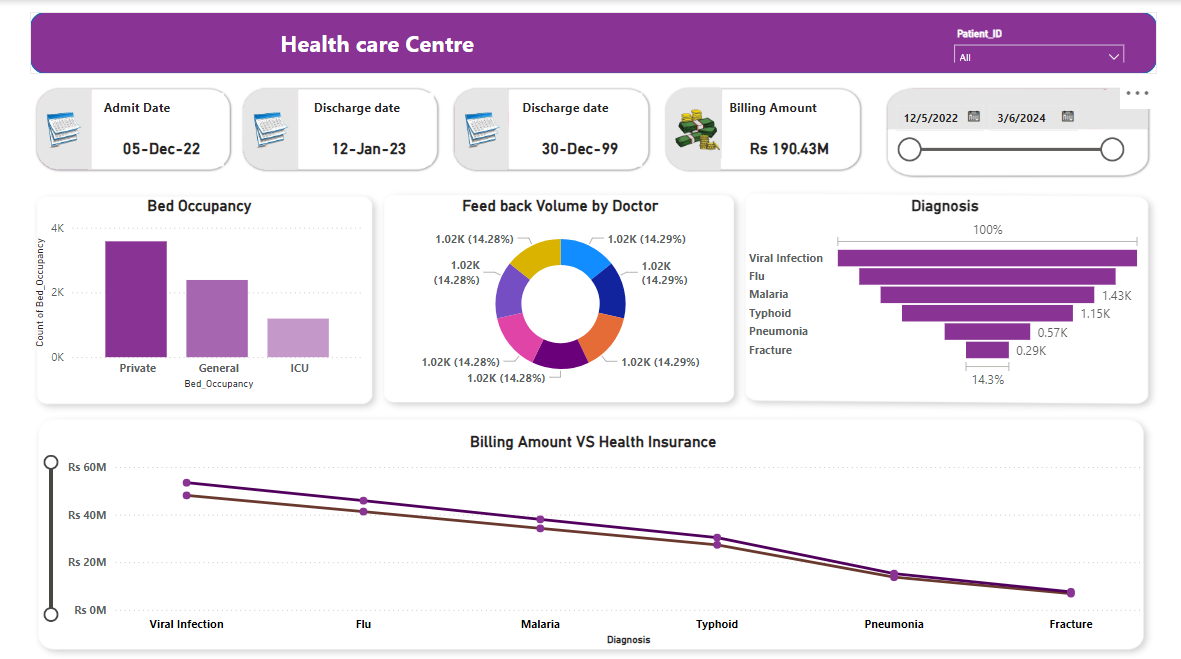

This screenshot's page, from the dashboard's own definition file:
{"tool":"powerbi","page":{"name":"Page 1","canvas":[1280,720],"ordinal":0},"visuals":[{"type":"image","box":[0,0,1280,720],"z":0},{"type":"shape","box":[31.7,13.3,1216.7,66.7],"z":500},{"type":"textbox","box":[215.4,24.3,448.5,43.7],"z":2000},{"type":"slicer","fields":{"Values":["Sheet1.Patient_ID"]},"box":[1020,25,203.3,43.3],"z":3000},{"type":"card","fields":{"Values":["Min(Sheet1.Admit_Date)"]},"box":[106.9,140.9,134.4,38.9],"z":4000},{"type":"textbox","box":[106.9,100.4,134.4,43.7],"z":5000},{"type":"card","fields":{"Values":["Min(Sheet1.Discharge_Date)"]},"box":[330.3,142.5,135,35.6],"z":6000},{"type":"textbox","box":[333.6,100.4,134.4,43],"z":7000},{"type":"card","fields":{"Values":["Min(Sheet1.Followup Date)"]},"box":[558.6,142.5,134.4,37.2],"z":8000},{"type":"textbox","box":[558.6,100.4,134.4,43.7],"z":9000},{"type":"textbox","box":[781.7,100,135,43.3],"z":10000},{"type":"card","fields":{"Values":["Sum(Sheet1.Billing Amount)"]},"box":[786.9,142.5,129.5,37.2],"z":11000},{"type":"columnChart","title":" Bed Occupancy","fields":{"Category":["Sheet1.Bed_Occupancy"],"Y":["CountNonNull(Sheet1.Bed_Occupancy)"]},"box":[32.4,212.1,365.9,212.1],"z":12000},{"type":"slicer","fields":{"Values":["Sheet1.Admit_Date"]},"box":[954.3,103.9,268.3,79.4],"z":13000},{"type":"donutChart","title":"Feed back Volume by Doctor","fields":{"Y":["CountNonNull(Sheet1.Doctor)"],"Category":["Sheet1.Doctor"]},"box":[422.6,212.1,364.3,212.1],"z":14000},{"type":"funnel","title":"Diagnosis","fields":{"Category":["Sheet1.Diagnosis"],"Y":["CountNonNull(Sheet1.Diagnosis)"]},"box":[803.1,212.1,434,212.1],"z":15000},{"type":"lineChart","title":"Billing Amount VS Health Insurance","fields":{"Y":["Sum(Sheet1.Health Insurance Amount)","Sum(Sheet1.Billing Amount)"],"Category":["Sheet1.Diagnosis"]},"box":[43.7,466.3,1193.4,234.8],"z":16000},{"type":"image","box":[43.2,109.9,50.6,61.7],"z":17000},{"type":"image","box":[266.7,109.9,50.6,61.7],"z":18000},{"type":"image","box":[495.1,109.9,50.6,61.7],"z":19000},{"type":"image","box":[723.3,103.3,58.3,73.3],"z":20000}]}

Visuals, with their boxes in screenshot pixels (x1, y1, x2, y2), scaled from the page's 1280x720 canvas onto the 1181x659 screenshot:
image: (x1=0, y1=0, x2=1180, y2=658)
shape: (x1=29, y1=12, x2=1152, y2=73)
textbox: (x1=199, y1=22, x2=613, y2=62)
slicer - Sheet1.Patient_ID: (x1=941, y1=23, x2=1129, y2=63)
card - Min(Sheet1.Admit_Date): (x1=99, y1=129, x2=223, y2=165)
textbox: (x1=99, y1=92, x2=223, y2=132)
card - Min(Sheet1.Discharge_Date): (x1=305, y1=130, x2=429, y2=163)
textbox: (x1=308, y1=92, x2=432, y2=131)
card - Min(Sheet1.Followup Date): (x1=515, y1=130, x2=639, y2=164)
textbox: (x1=515, y1=92, x2=639, y2=132)
textbox: (x1=721, y1=92, x2=846, y2=131)
card - Sum(Sheet1.Billing Amount): (x1=726, y1=130, x2=846, y2=164)
" Bed Occupancy" columnChart: (x1=30, y1=194, x2=367, y2=388)
slicer - Sheet1.Admit_Date: (x1=880, y1=95, x2=1128, y2=168)
"Feed back Volume by Doctor" donutChart: (x1=390, y1=194, x2=726, y2=388)
"Diagnosis" funnel: (x1=741, y1=194, x2=1141, y2=388)
"Billing Amount VS Health Insurance" lineChart: (x1=40, y1=427, x2=1141, y2=642)
image: (x1=40, y1=101, x2=87, y2=157)
image: (x1=246, y1=101, x2=293, y2=157)
image: (x1=457, y1=101, x2=503, y2=157)
image: (x1=667, y1=95, x2=721, y2=162)
